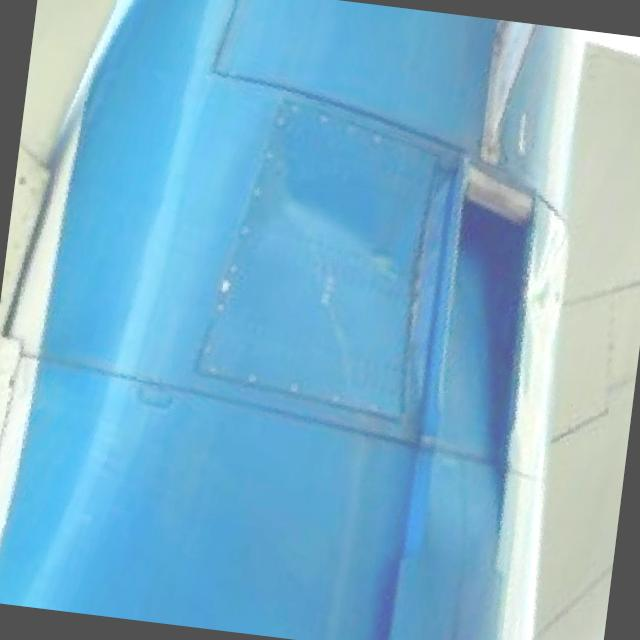dent: (200, 158, 430, 308)
